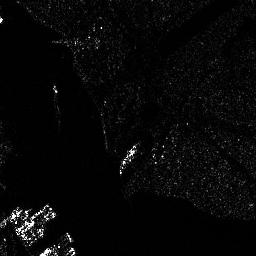ship: (118, 143, 141, 173)
